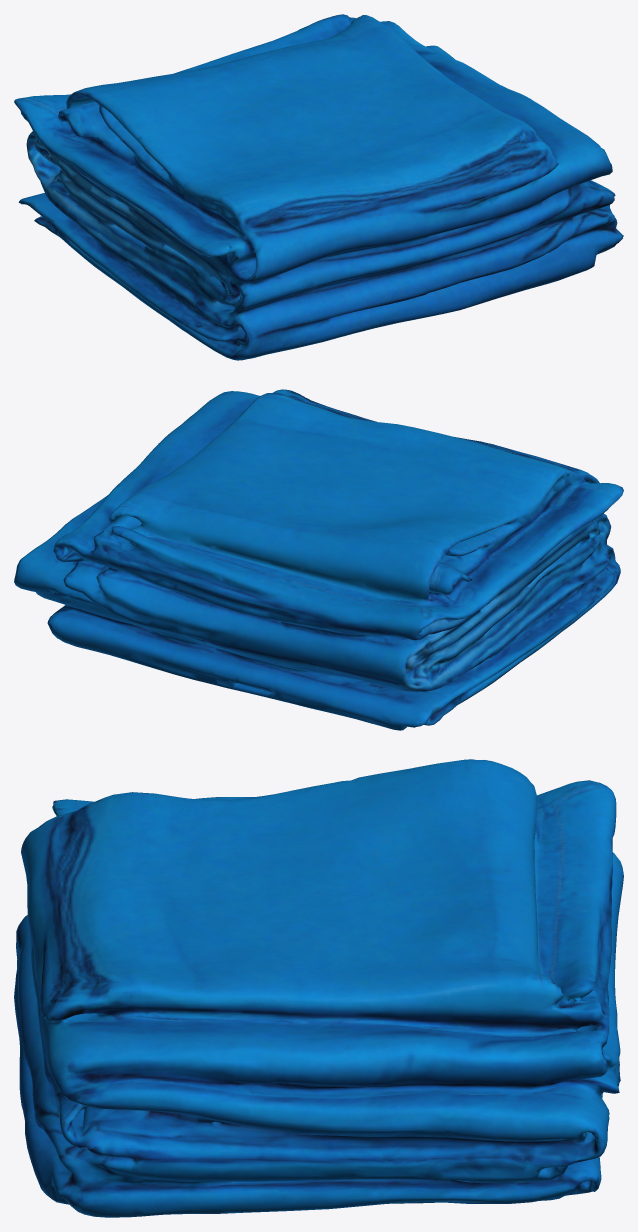
Rendered from one_layer_folded_clot_1108175304_refine.fbx.
3 views of the same model, one above another, from view 1: azimuth 30°, elevation 25°; view 2: azimuth 150°, elevation 25°; view 3: azimuth 270°, elevation 25° (orthographic). The views are drawn at different scales.
Parts seen in each view (by area): view 1: Mesh_0; view 2: Mesh_0; view 3: Mesh_0.
Boxes of the visible parts, x1,y1,x2,y2 form: Mesh_0: [14, 14, 623, 360]; Mesh_0: [14, 389, 623, 730]; Mesh_0: [14, 759, 623, 1217].
Bounding box in the file's own units: 200 × 69.99 × 178.
1 material, 1 textured.
